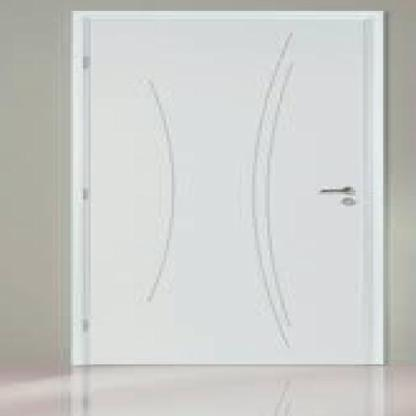door: (66, 4, 398, 378)
